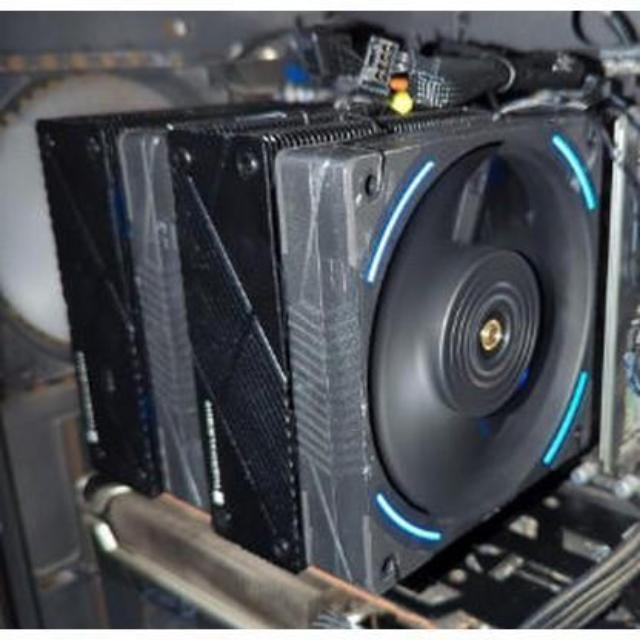CPU_Fan: (30, 102, 610, 586)
